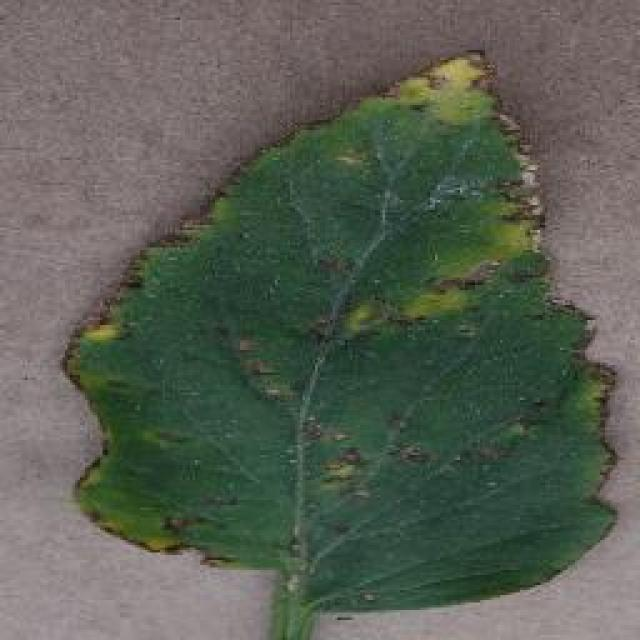Tomato___Bacterial_spot: (57, 50, 627, 638)
